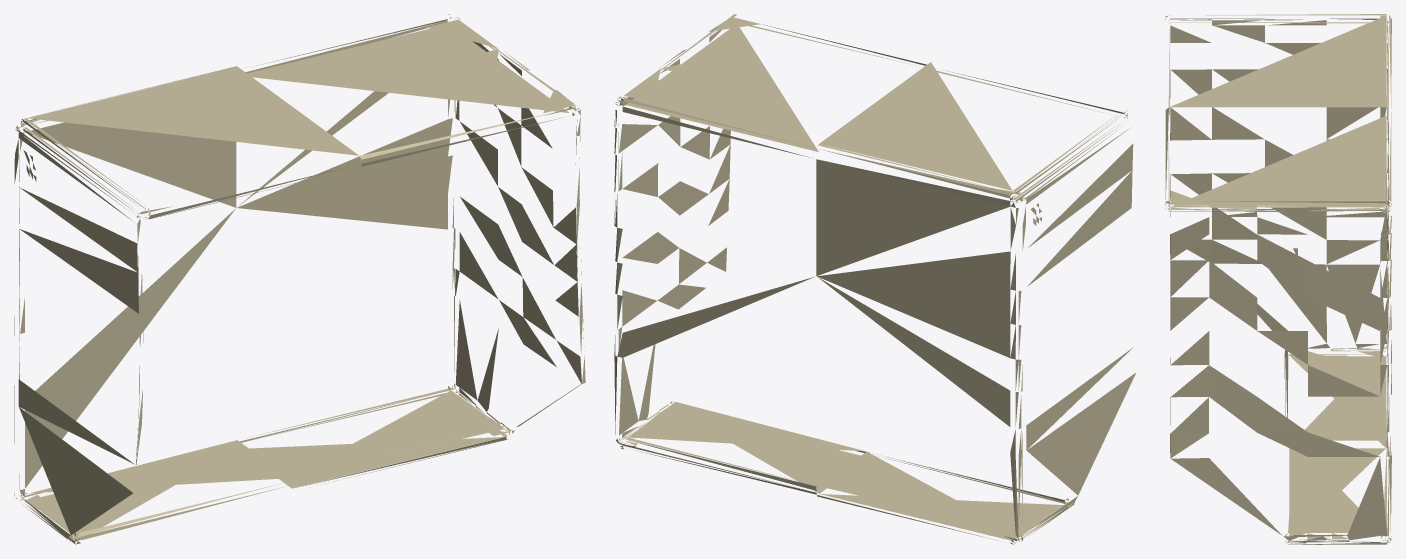
The model's file is box_cardboard_open_a02.glb.
The picture shows the model from 3 angles, left to right: view 1: azimuth 30°, elevation 25°; view 2: azimuth 150°, elevation 25°; view 3: azimuth 270°, elevation 25°; orthographic projection. The views are drawn at different scales.
Parts seen in each view (by area): view 1: geometry_0; view 2: geometry_0; view 3: geometry_0.
Part boxes in pixels (x1,y1,x2,y2): geometry_0: (14,14,585,544); geometry_0: (614,14,1135,544); geometry_0: (1165,14,1391,544).
Bounding box in the file's own units: 0.48 × 0.3908 × 0.2338.
